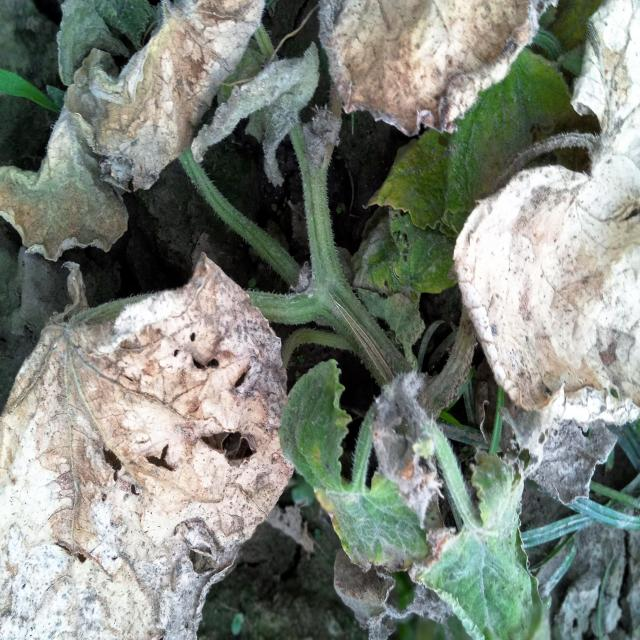Bacterial-Wilt: (0, 256, 301, 640), (454, 0, 639, 425), (1, 0, 268, 265), (320, 0, 564, 135)
